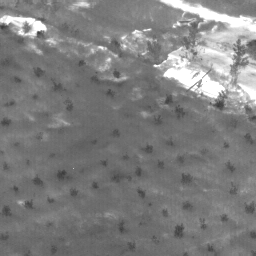aircraft: (198, 78, 200, 80)
